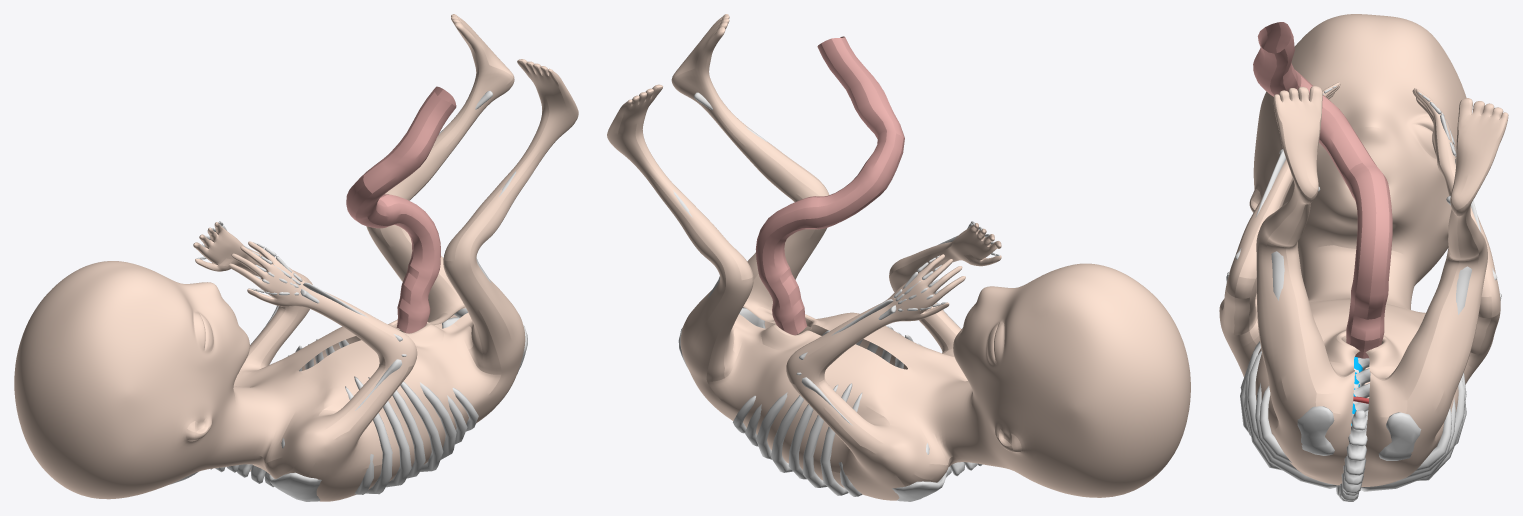
Rendered from week32.glb.
3 renders of one model, left to right at view 1: azimuth 30°, elevation 25°; view 2: azimuth 150°, elevation 25°; view 3: azimuth 270°, elevation 25°, orthographic. The views are drawn at different scales.
Parts seen in each view (by area): view 1: FetusBody_Skin_Master, UmbilicalCord_Master, ribcage, handbones; view 2: FetusBody_Skin_Master, UmbilicalCord_Master, ribcage, handbones, legbones; view 3: FetusBody_Skin_Master, UmbilicalCord_Master, ribcage, legbones, backbone, handbones.
Boxes of the visible parts, x1,y1,x2,y2 form: FetusBody_Skin_Master: [14, 14, 578, 501]; UmbilicalCord_Master: [346, 86, 456, 333]; ribcage: [288, 338, 478, 494]; handbones: [197, 221, 406, 501]; FetusBody_Skin_Master: [607, 14, 1190, 500]; UmbilicalCord_Master: [755, 36, 904, 335]; ribcage: [733, 326, 921, 496]; handbones: [796, 221, 999, 501]; legbones: [673, 92, 771, 367]; FetusBody_Skin_Master: [1219, 14, 1508, 486]; UmbilicalCord_Master: [1253, 22, 1392, 358]; ribcage: [1240, 315, 1466, 491]; legbones: [1271, 187, 1471, 460]; backbone: [1336, 358, 1370, 501]; handbones: [1226, 85, 1501, 300].
Size of the model in its own units: 0.9587 by 0.7114 by 0.381.
